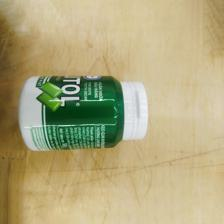Xylitol_green: (18, 74, 150, 151)
